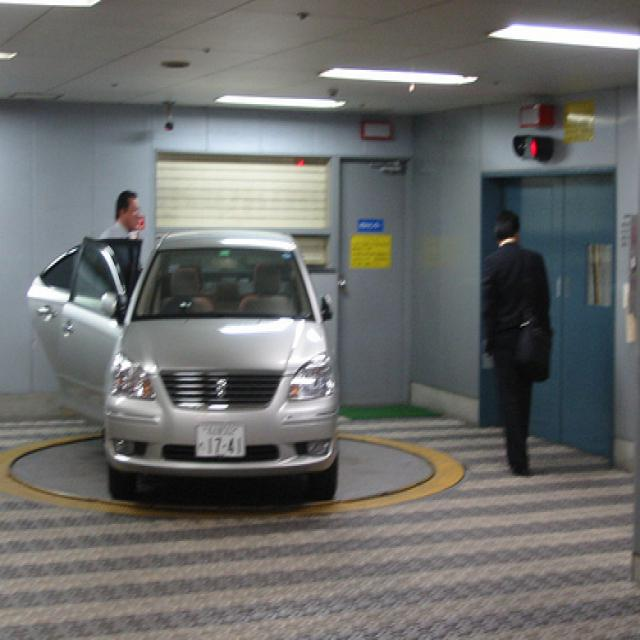Car: (25, 220, 345, 503)
